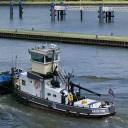tugboat: (12, 44, 118, 121)
